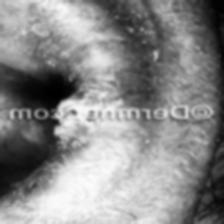Potentially Malignant Skin Tumors: (50, 93, 102, 143)
